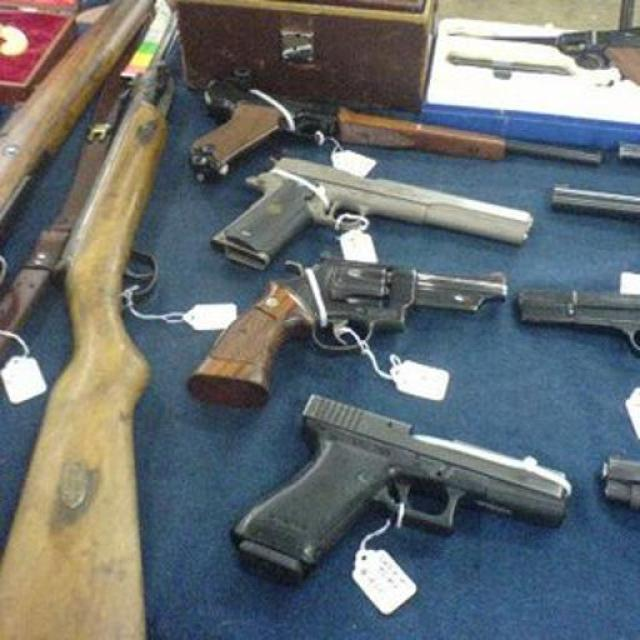pistol: (215, 394, 579, 580), (185, 254, 512, 410), (198, 151, 539, 273)
